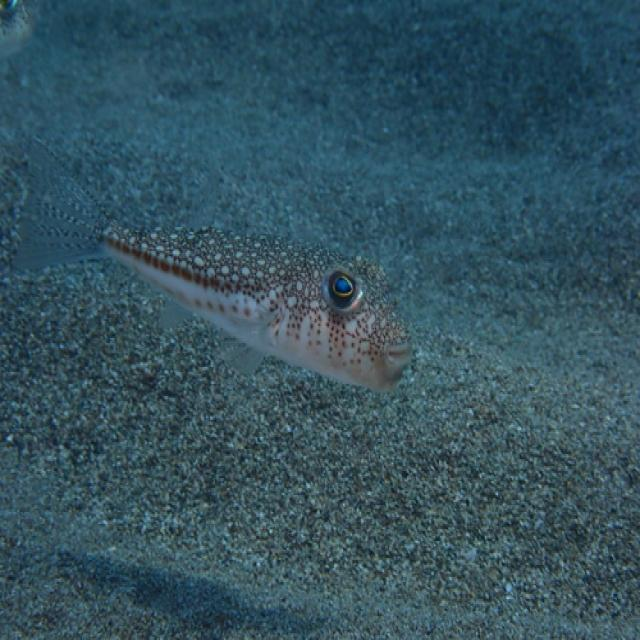Balik: (16, 144, 410, 390)
